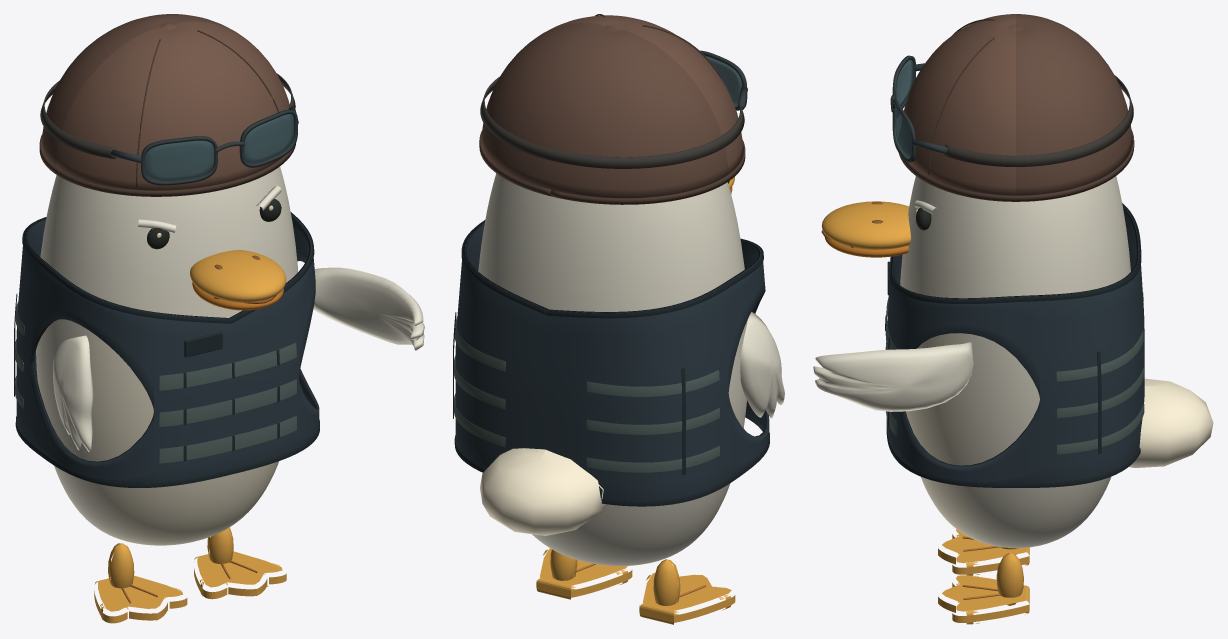
The model's file is fitted-species-goose-aim_up-character.glb.
3 renders of one model, left to right at view 1: azimuth 30°, elevation 25°; view 2: azimuth 150°, elevation 25°; view 3: azimuth 270°, elevation 25°, orthographic. The views are drawn at different scales.
Visible parts, largest first — view 1: goose_aim_up_after_goose_vest_refined_mesh, goose_aim_up_after_goose_torso_mesh, goose_aim_up_after_goose_face_aviator_cap_mesh, goose_aim_up_after_goose_face_raised_goggles_mesh, goose_aim_up_after_goose_rightArm_mesh, goose_aim_up_after_goose_beak_mesh, goose_aim_up_after_goose_leftArm_mesh, goose_aim_up_after_goose_leftFoot_mesh, goose_aim_up_after_goose_rightFoot_mesh; view 2: goose_aim_up_after_goose_vest_refined_mesh, goose_aim_up_after_goose_face_aviator_cap_mesh, goose_aim_up_after_goose_torso_mesh, goose_aim_up_after_goose_tail_mesh, goose_aim_up_after_goose_face_raised_goggles_mesh, goose_aim_up_after_goose_leftFoot_mesh, goose_aim_up_after_goose_leftArm_mesh, goose_aim_up_after_goose_rightFoot_mesh; view 3: goose_aim_up_after_goose_torso_mesh, goose_aim_up_after_goose_vest_refined_mesh, goose_aim_up_after_goose_face_aviator_cap_mesh, goose_aim_up_after_goose_rightArm_mesh, goose_aim_up_after_goose_tail_mesh, goose_aim_up_after_goose_face_raised_goggles_mesh, goose_aim_up_after_goose_beak_mesh, goose_aim_up_after_goose_rightFoot_mesh, goose_aim_up_after_goose_leftFoot_mesh.
Part boxes in pixels (box(x1,y1,x2,y2)): goose_aim_up_after_goose_vest_refined_mesh: box(14, 212, 319, 487); goose_aim_up_after_goose_torso_mesh: box(36, 166, 298, 545); goose_aim_up_after_goose_face_aviator_cap_mesh: box(39, 14, 296, 196); goose_aim_up_after_goose_face_raised_goggles_mesh: box(40, 73, 298, 185); goose_aim_up_after_goose_rightArm_mesh: box(313, 267, 424, 350); goose_aim_up_after_goose_beak_mesh: box(190, 250, 286, 310); goose_aim_up_after_goose_leftArm_mesh: box(53, 335, 93, 452); goose_aim_up_after_goose_leftFoot_mesh: box(94, 543, 187, 623); goose_aim_up_after_goose_rightFoot_mesh: box(194, 527, 286, 599); goose_aim_up_after_goose_vest_refined_mesh: box(453, 220, 769, 506); goose_aim_up_after_goose_face_aviator_cap_mesh: box(479, 14, 745, 204); goose_aim_up_after_goose_torso_mesh: box(478, 173, 747, 565); goose_aim_up_after_goose_tail_mesh: box(480, 448, 607, 535); goose_aim_up_after_goose_face_raised_goggles_mesh: box(480, 50, 747, 168); goose_aim_up_after_goose_leftFoot_mesh: box(639, 559, 735, 624); goose_aim_up_after_goose_leftArm_mesh: box(740, 312, 784, 418); goose_aim_up_after_goose_rightFoot_mesh: box(536, 548, 632, 599); goose_aim_up_after_goose_torso_mesh: box(900, 176, 1130, 547); goose_aim_up_after_goose_vest_refined_mesh: box(885, 203, 1144, 487); goose_aim_up_after_goose_face_aviator_cap_mesh: box(899, 14, 1134, 201); goose_aim_up_after_goose_rightArm_mesh: box(813, 342, 973, 411); goose_aim_up_after_goose_tail_mesh: box(1129, 378, 1213, 467); goose_aim_up_after_goose_face_raised_goggles_mesh: box(890, 55, 1133, 166); goose_aim_up_after_goose_beak_mesh: box(821, 201, 910, 257); goose_aim_up_after_goose_rightFoot_mesh: box(938, 553, 1029, 624); goose_aim_up_after_goose_leftFoot_mesh: box(938, 529, 1029, 575).
Bounding box in the file's own units: 1.21 × 2.15 × 1.4.
